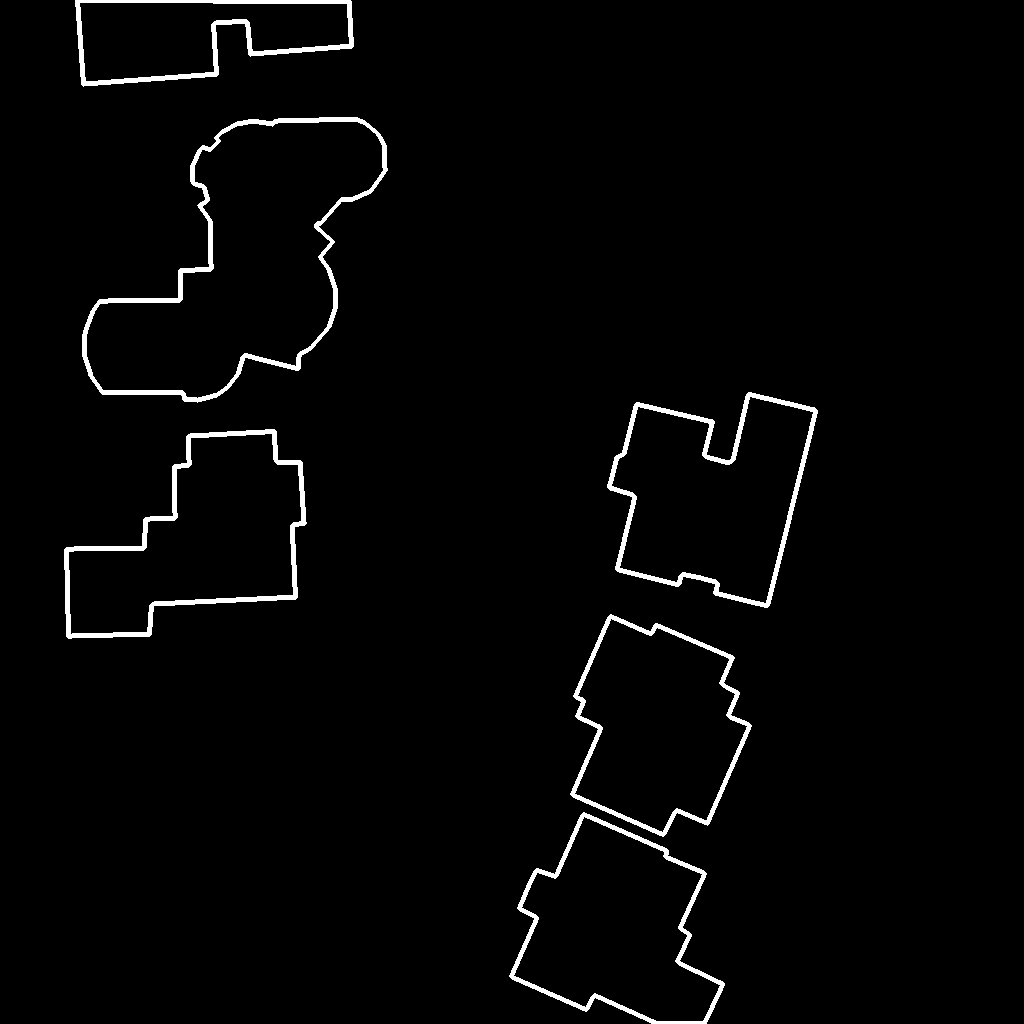building: (84, 119, 387, 401), (66, 431, 305, 637), (511, 814, 724, 1024), (609, 394, 817, 607), (572, 616, 751, 836), (77, 0, 353, 85)
